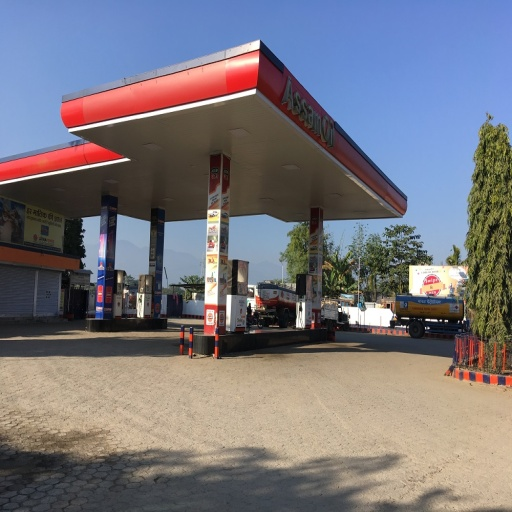roof: (61, 38, 410, 223)
